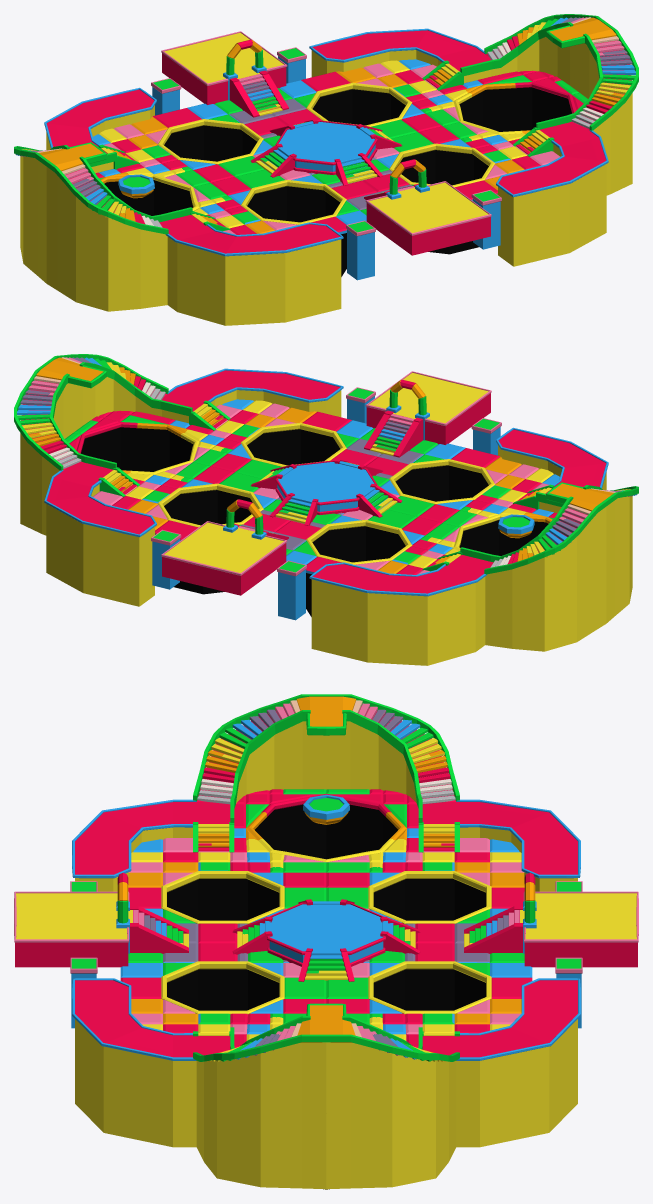
Rendered from ColourScene.fbx.
3 renders of one model, top to bottom at view 1: azimuth 30°, elevation 25°; view 2: azimuth 150°, elevation 25°; view 3: azimuth 270°, elevation 25°, orthographic. The views are drawn at different scales.
Parts seen in each view (by area): view 1: Circle.014; view 2: Circle.014; view 3: Circle.014.
Part boxes in pixels (x1,y1,x2,y2): Circle.014: (14, 14, 638, 325); Circle.014: (14, 354, 638, 665); Circle.014: (14, 694, 638, 1189).
Bounding box in the file's own units: 18405 × 4374 × 14217.
